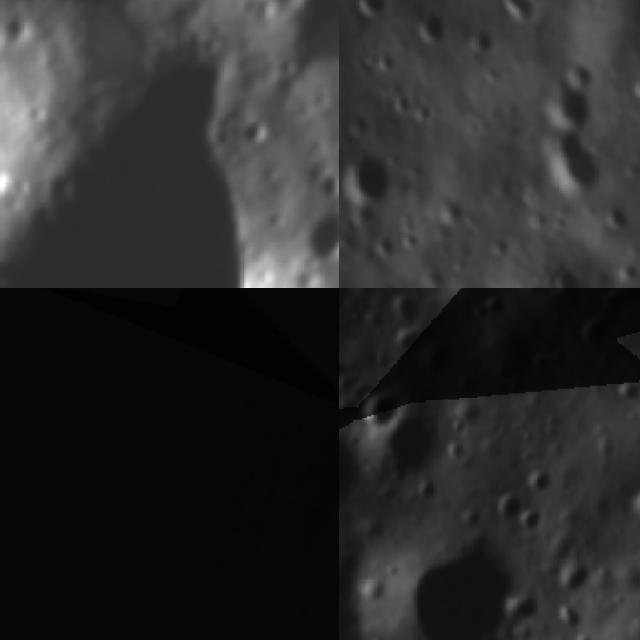crater: (385, 531, 545, 640), (251, 0, 339, 108), (379, 407, 455, 490), (286, 198, 339, 288), (544, 130, 600, 190), (544, 69, 594, 132), (344, 151, 394, 205), (359, 388, 405, 428), (418, 5, 456, 51), (0, 150, 25, 219), (485, 489, 529, 528), (339, 431, 362, 505), (416, 342, 458, 382), (552, 559, 598, 595), (499, 0, 542, 34), (542, 262, 596, 288), (600, 199, 633, 239), (521, 466, 556, 498), (347, 0, 396, 20), (624, 489, 640, 530), (630, 66, 640, 108), (283, 282, 339, 288)
